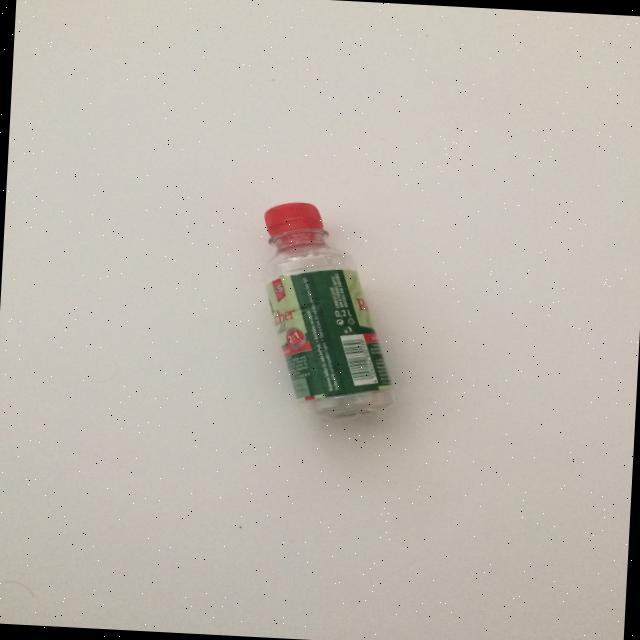plastic: (252, 200, 406, 424)
